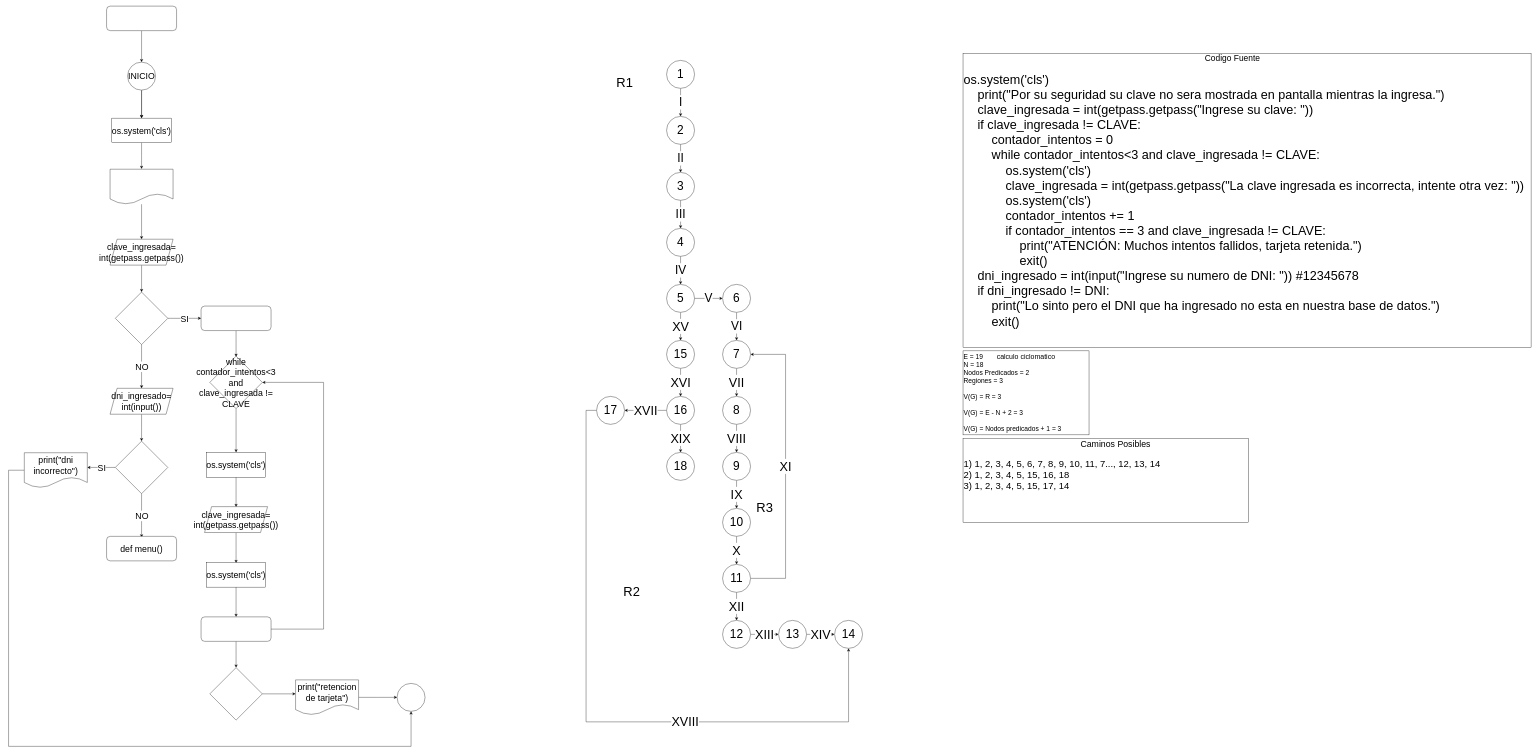
The diagram is 1537 pixels wide and 755 high, and some of its shapes have lost their labels. Each missing label, with the centre of its shape:
contador_intentos += 1: (x=236, y=629)
contador_intentos = 0: (x=236, y=318)
def validacion(): (x=141, y=18)
FIN: (x=411, y=697)
if clave_ingresada != CLAVE: (x=141, y=318)
if contador_intentos == 3: (x=235, y=693)
if dni_ingresado != DNI: (x=141, y=467)
print("Por su.."): (x=141, y=186)
